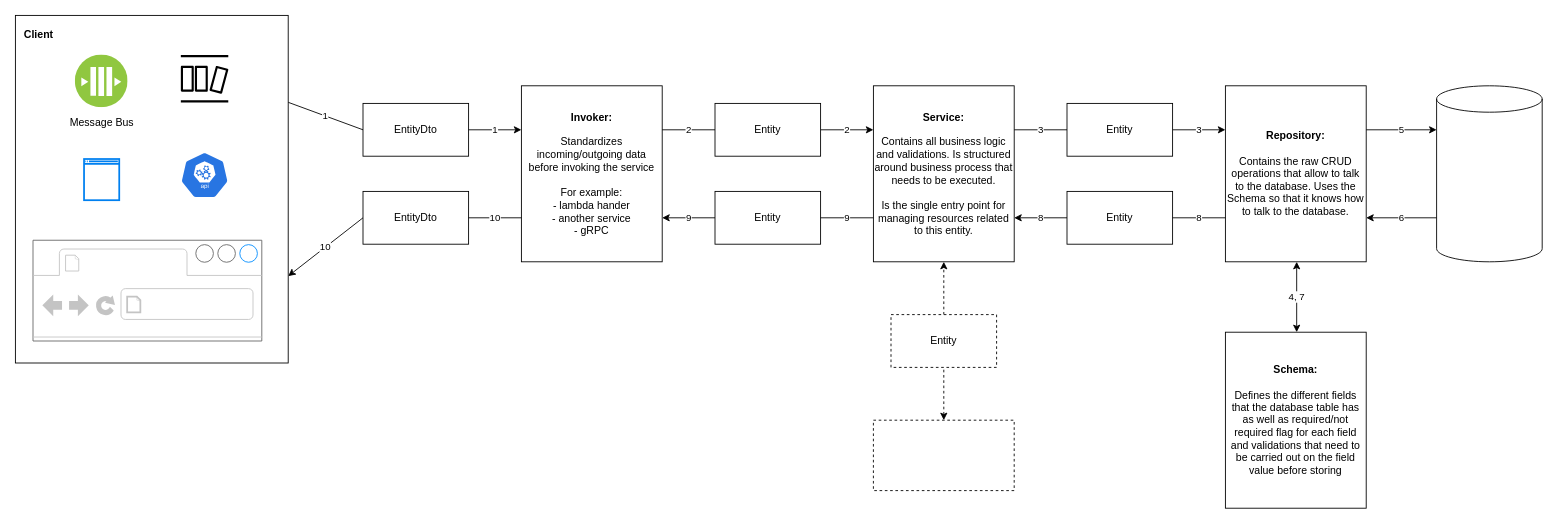
Image size: 1558x524. Some labels were removed from this diagram. Each missing label, with the box of its shape:
API: (177, 151, 231, 198)
Application: (83, 248, 181, 285)
DynamoDB Stream: (180, 55, 228, 102)
DynamoDB Table: (1436, 85, 1542, 262)
Other Services: (873, 419, 1014, 491)
Postman: (83, 158, 120, 201)
